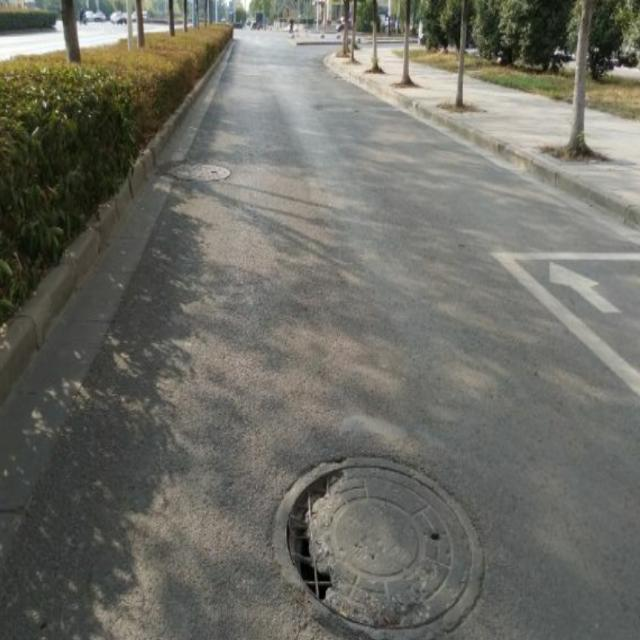Broken: (263, 441, 494, 640)
